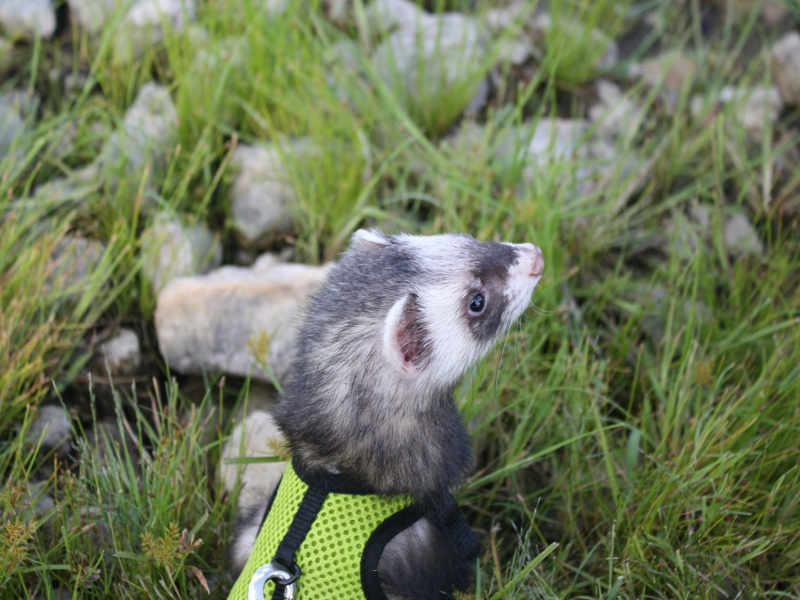minkish: (222, 208, 562, 600)
